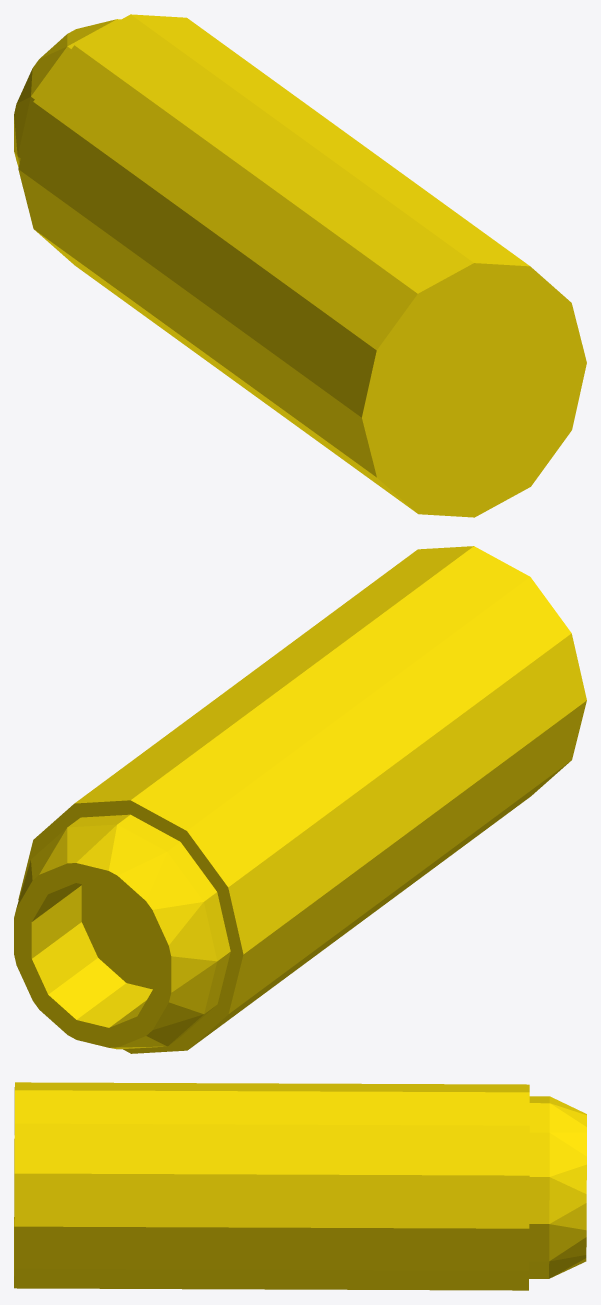
The model's file is Bulllet 03 .fbx.
3 renders of one model, top to bottom at view 1: azimuth 30°, elevation 25°; view 2: azimuth 150°, elevation 25°; view 3: azimuth 270°, elevation 25°, orthographic. The views are drawn at different scales.
Visible parts, largest first — view 1: Cylinder; view 2: Cylinder; view 3: Cylinder.
Part boxes in pixels (bbox=[...]): Cylinder: bbox=[14, 14, 586, 517]; Cylinder: bbox=[14, 546, 586, 1053]; Cylinder: bbox=[14, 1082, 586, 1290].
Size of the model in its own units: 75.49 by 82.28 by 222.
